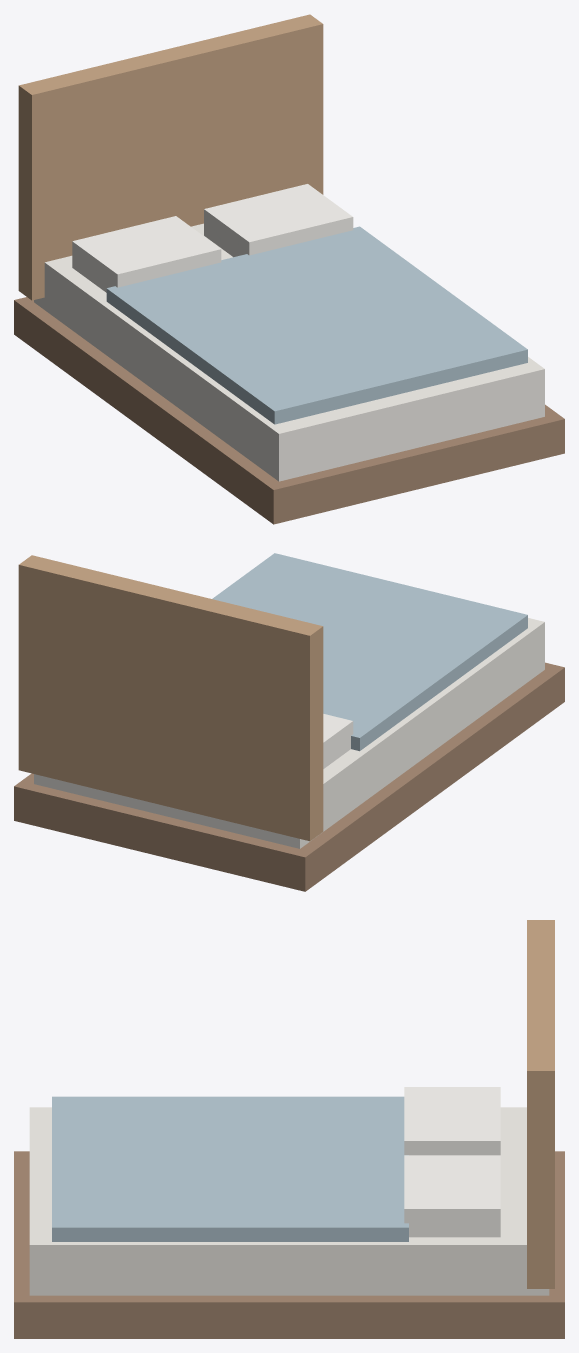
The model's file is panel-bed.glb.
3 views of the same model, one above another, from view 1: azimuth 30°, elevation 25°; view 2: azimuth 150°, elevation 25°; view 3: azimuth 270°, elevation 25° (orthographic). The views are drawn at different scales.
Visible parts, largest first — view 1: headboard, blanket, mattress, frame, pillow-left, pillow-right; view 2: headboard, blanket, frame, mattress, pillow-left; view 3: blanket, mattress, frame, headboard, pillow-right, pillow-left.
Part boxes in pixels (x1=…): headboard: x1=18, y1=14, x2=323, y2=300; blanket: x1=106, y1=226, x2=527, y2=424; mattress: x1=34, y1=223, x2=544, y2=481; frame: x1=14, y1=297, x2=564, y2=524; pillow-left: x1=72, y1=216, x2=221, y2=292; pillow-right: x1=204, y1=184, x2=353, y2=257; headboard: x1=18, y1=555, x2=323, y2=841; blanket: x1=212, y1=553, x2=527, y2=751; frame: x1=14, y1=662, x2=564, y2=891; mattress: x1=34, y1=618, x2=544, y2=848; pillow-left: x1=323, y1=714, x2=353, y2=768; blanket: x1=52, y1=1096, x2=408, y2=1241; mattress: x1=29, y1=1107, x2=549, y2=1295; frame: x1=14, y1=1151, x2=564, y2=1338; headboard: x1=527, y1=920, x2=554, y2=1288; pillow-right: x1=404, y1=1155, x2=500, y2=1237; pillow-left: x1=404, y1=1087, x2=500, y2=1155.
Bounding box in the file's own units: 2.3 × 1.91 × 3.55.
